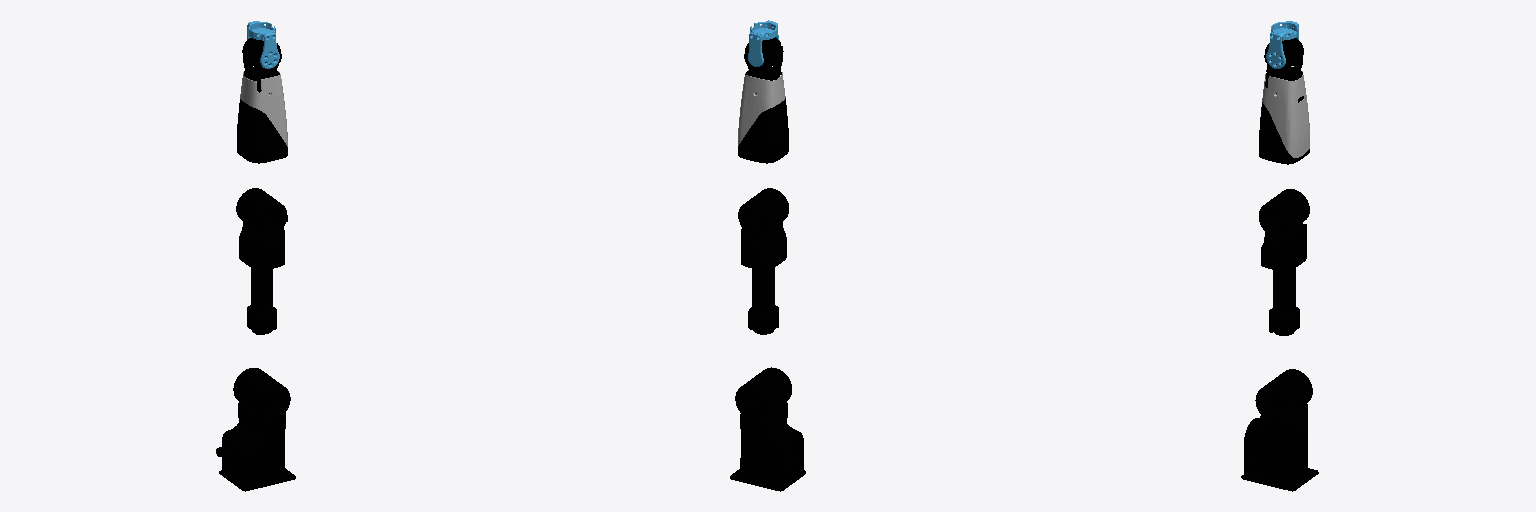
robot.urdf — nero_description:
<?xml version="1.0" encoding="utf-8"?>
<!-- This URDF was automatically created by SolidWorks to URDF Exporter! Originally created by [author] ([email redacted]) 
     Commit Version: 1.6.0-4-g7f85cfe  Build Version: 1.6.7995.38578
     For more information, please see http://wiki.ros.org/sw_urdf_exporter -->
<robot name="nero_description">
    <link name="world"/>
    <joint name="world_to_base_link" type="fixed">
        <parent link="world"/>
        <child link="base_link"/>
        <origin xyz="0 0 0" rpy="0 0 0"/>
    </joint>
    <link name="base_link">
        <inertial>
            <origin xyz="-0.00963614954335565 0.00016786624100977 0.044860101664403" rpy="0 0 0"/>
            <mass value="0.77"/>
            <inertia ixx="0.0006669" ixy="0.0" ixz="0.0" iyy="0.00054501" iyz="0.0" izz="0.00051509"/>
        </inertial>
        <visual>
            <origin xyz="0 0 0" rpy="0 0 0"/>
            <geometry>
                <mesh filename="package://nero_description/meshes/dae/base_link.dae"/>
            </geometry>
        </visual>
        <collision>
            <origin xyz="0 0 0" rpy="0 0 0"/>
            <geometry>
                <mesh filename="package://nero_description/meshes/base_link.STL"/>
            </geometry>
        </collision>
    </link>
    <link name="link1">
        <inertial>
            <origin xyz="-0.00077 -0.00006 -0.00686" rpy="0 0 0"/>
            <mass value="0.77"/>
            <inertia ixx="0.0006669" ixy="0.0" ixz="0.0" iyy="0.00054501" iyz="0.0" izz="0.00051509"/>
        </inertial>
        <visual>
            <origin xyz="0 0 0" rpy="0 0 0"/>
            <geometry>
                <mesh filename="package://nero_description/meshes/dae/link1.dae"/>
            </geometry>
        </visual>
        <collision>
            <origin xyz="0 0 0" rpy="0 0 0"/>
            <geometry>
                <mesh filename="package://nero_description/meshes/Link1.STL"/>
            </geometry>
        </collision>
    </link>
    <joint name="joint1" type="revolute">
        <origin xyz="0 0 0.138" rpy="0 0 0"/>
        <parent link="base_link"/>
        <child link="link1"/>
        <axis xyz="0 0 1"/>
        <limit lower="-2.7" upper="2.7" effort="0" velocity="0"/>
    </joint>
    <link name="link2">
        <inertial>
            <origin xyz="-0.00011 -0.06072 0.00148" rpy="0 0 0"/>
            <mass value="0.49"/>
            <inertia ixx="0.00053808" ixy="0.0" ixz="0.0" iyy="0.00029435" iyz="0.0" izz="0.00040266"/>
        </inertial>
        <visual>
            <origin xyz="0 0 0" rpy="0 0 0"/>
            <geometry>
                <mesh filename="package://nero_description/meshes/dae/link2.dae"/>
            </geometry>
        </visual>
        <collision>
            <origin xyz="0 0 0" rpy="0 0 0"/>
            <geometry>
                <mesh filename="package://nero_description/meshes/Link2.STL"/>
            </geometry>
        </collision>
    </link>
    <joint name="joint2" type="revolute">
        <origin xyz="0 0 0" rpy="1.5708 3.1415 0"/>
        <parent link="link1"/>
        <child link="link2"/>
        <axis xyz="0 0 1"/>
        <limit lower="-1.74" upper="1.74" effort="0" velocity="0"/>
    </joint>
    <link name="link3">
        <inertial>
            <origin xyz="0.00014 0.00211 -0.04853" rpy="0 0 0"/>
            <mass value="0.67"/>
            <inertia ixx="0.00342528" ixy="0.0" ixz="0.0" iyy="0.0033924" iyz="0.0" izz="0.00026169"/>
        </inertial>
        <visual>
            <origin xyz="0 0 0" rpy="0 0 0"/>
            <geometry>
                <mesh filename="package://nero_description/meshes/dae/link3.dae"/>
            </geometry>
        </visual>
        <collision>
            <origin xyz="0 0 0" rpy="0 0 0"/>
            <geometry>
                <mesh filename="package://nero_description/meshes/Link3.STL"/>
            </geometry>
        </collision>
    </link>
    <joint name="joint3" type="revolute">
        <origin xyz="0 -0.31 0" rpy="-1.5708 0 3.1416"/>
        <parent link="link2"/>
        <child link="link3"/>
        <axis xyz="0 0 1"/>
        <limit lower="-2.75" upper="2.75" effort="0" velocity="0"/>
    </joint>
    <link name="link4">
        <inertial>
            <origin xyz="-0.00013 -0.05482 0.00132" rpy="0 0 0"/>
            <mass value="0.41"/>
            <inertia ixx="0.00031331" ixy="0.0" ixz="0.0" iyy="0.00013204" iyz="0.0" izz="0.0002393"/>
        </inertial>
        <visual>
            <origin xyz="0 0 0" rpy="0 0 0"/>
            <geometry>
                <mesh filename="package://nero_description/meshes/dae/link4.dae"/>
            </geometry>
        </visual>
        <collision>
            <origin xyz="0 0 0" rpy="0 0 0"/>
            <geometry>
                <mesh filename="package://nero_description/meshes/Link4.STL"/>
            </geometry>
        </collision>
    </link>
    <joint name="joint4" type="revolute">
        <origin xyz="0 0 0" rpy="-1.5708 0 3.1416"/>
        <parent link="link3"/>
        <child link="link4"/>
        <axis xyz="0 0 1"/>
        <limit lower="-1.01" upper="2.14" effort="0" velocity="0"/>
    </joint>
    <link name="link5">
        <inertial>
            <origin xyz="0.00303 0.00617 -0.11778" rpy="0 0 0"/>
            <mass value="0.56"/>
            <inertia ixx="0.0008249" ixy="0.0" ixz="0.0" iyy="0.00078548" iyz="0.0" izz="0.00021015"/>
        </inertial>
        <visual>
            <origin xyz="0 0 0" rpy="0 0 0"/>
            <geometry>
                <mesh filename="package://nero_description/meshes/dae/link5.dae"/>
            </geometry>
        </visual>
        <collision>
            <origin xyz="0 0 0" rpy="0 0 0"/>
            <geometry>
                <mesh filename="package://nero_description/meshes/Link5.STL"/>
            </geometry>
        </collision>
    </link>
    <joint name="joint5" type="revolute">
        <origin xyz="0 -0.27001 0" rpy="1.5708 -1.5708 0"/>
        <parent link="link4"/>
        <child link="link5"/>
        <axis xyz="0 0 1"/>
        <limit lower="-2.75" upper="2.75" effort="0" velocity="0"/>
    </joint>
    <link name="link6">
        <inertial>
            <origin xyz="0.00014 -0.0027 -0.00025" rpy="0 0 0"/>
            <mass value="0.31"/>
            <inertia ixx="0.00008181" ixy="0.0" ixz="0.0" iyy="0.00007176" iyz="0.0" izz="0.00007906"/>
        </inertial>
        <visual>
            <origin xyz="0 0 0" rpy="0 0 0"/>
            <geometry>
                <mesh filename="package://nero_description/meshes/dae/link6.dae"/>
            </geometry>
        </visual>
        <collision>
            <origin xyz="0 0 0" rpy="0 0 0"/>
            <geometry>
                <mesh filename="package://nero_description/meshes/Link6.STL"/>
            </geometry>
        </collision>
    </link>
    <joint name="joint6" type="revolute">
        <origin xyz="0 0 0" rpy="1.5708 -1.5708 0"/>
        <parent link="link5"/>
        <child link="link6"/>
        <axis xyz="0 0 1"/>
        <limit lower="-0.73" upper="0.95" effort="0" velocity="0"/>
    </joint>
    <link name="link7">
        <inertial>
            <origin xyz="-0.00014000 -0.00010000 -0.00275000" rpy="0 0 0"/>
            <mass value="0.000001"/>
            <inertia ixx="1.1000000000000001e-07" ixy="0" ixz="0" iyy="1.1000000000000001e-07" iyz="0" izz="1.9999999999999999e-07"/>
        </inertial>
        <visual>
            <origin xyz="0 0 0" rpy="0 0 0"/>
            <geometry>
                <mesh filename="package://nero_description/meshes/dae/link7.dae"/>
            </geometry>
        </visual>
        <collision>
            <origin xyz="0 0 0" rpy="0 0 0"/>
            <geometry>
                <mesh filename="package://nero_description/meshes/Link7.STL"/>
            </geometry>
        </collision>
    </link>
    <joint name="joint7" type="revolute">
        <origin xyz="0 -0.0235 0" rpy="1.5708 0 0"/>
        <parent link="link6"/>
        <child link="link7"/>
        <axis xyz="0 0 1"/>
        <limit lower="-1.57" upper="1.57" effort="0" velocity="0"/>
    </joint>
    <link name="end_effector">
        <inertial>
        <origin xyz="-0.01208 -0.00025 0.00032" rpy="0 0 0"/>
        <mass value="0.05"/>
        <inertia
            ixx="2.697e-05"
            ixy="0"
            ixz="0"
            iyy="4.311e-05"
            iyz="0"
            izz="2.479e-05"/>
        </inertial>
        <visual>
            <origin xyz="0 0 0" rpy="-1.57 0 -1.57"/>
            <geometry>
                <mesh filename="package://nero_description/meshes/stand_v2.dae"/>
            </geometry>
        </visual>
        <collision>
            <origin xyz="0 0 0" rpy="-1.57 0 -1.57"/>
            <geometry>
                <mesh filename="package://nero_description/meshes/stand_v2.dae"/>
            </geometry>
        </collision>
    </link>
    <joint name="end_effector_joint" type="fixed">
        <origin xyz="0.033 0.00000000 -0.02350000" rpy="0 0 0"/>
        <parent link="link7"/>
        <child link="end_effector"/>
    </joint>
</robot>

--- Facts derived from the render (not from the file) ---
The picture shows the robot from 3 angles, left to right: view 1: azimuth 30°, elevation 25°; view 2: azimuth 150°, elevation 25°; view 3: azimuth 330°, elevation 25°; orthographic projection.
Robot: nero_description — 10 links, 9 joints (7 revolute, 2 fixed); root link world; default pose: every joint at zero.
Visible links, largest first — view 1: link3, link5, base_link, link1, end_effector; view 2: link3, link5, base_link, link1, end_effector, link6; view 3: link3, link5, base_link, link1, end_effector.
Link boxes in pixels (left/top/right/bottom): link3: left=236, top=188, right=287, bottom=334; link5: left=237, top=43, right=287, bottom=163; base_link: left=216, top=423, right=295, bottom=491; link1: left=233, top=368, right=290, bottom=434; end_effector: left=247, top=21, right=279, bottom=68; link3: left=738, top=188, right=788, bottom=334; link5: left=738, top=43, right=788, bottom=163; base_link: left=730, top=424, right=805, bottom=491; link1: left=735, top=367, right=791, bottom=434; end_effector: left=748, top=20, right=779, bottom=66; link6: left=744, top=37, right=783, bottom=71; link3: left=1259, top=189, right=1309, bottom=335; link5: left=1259, top=43, right=1309, bottom=164; base_link: left=1241, top=418, right=1318, bottom=491; link1: left=1255, top=369, right=1312, bottom=436; end_effector: left=1266, top=21, right=1298, bottom=68.
Size in the robot's own frame: 0.109 by 0.0807 by 0.763 metres.
7 mesh visuals loaded from 9 distinct referenced files (7 Collada DAE); not drawn: 2 (reference not matched to a file when rendering).
